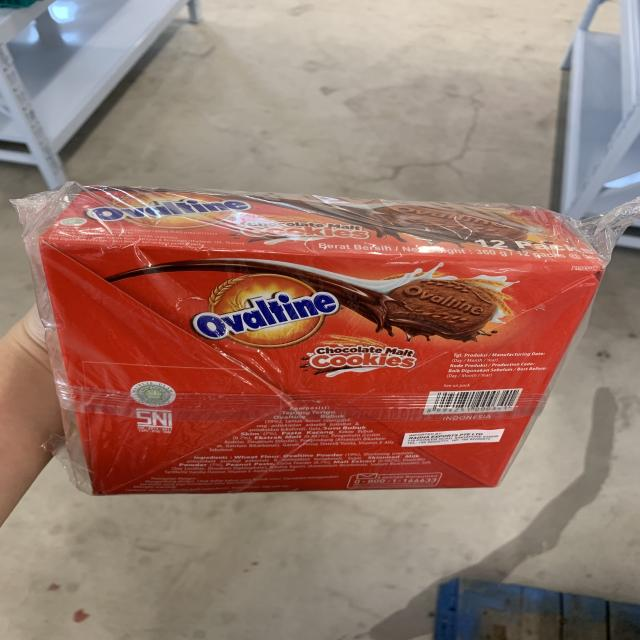object_name: (43, 194, 542, 492)
